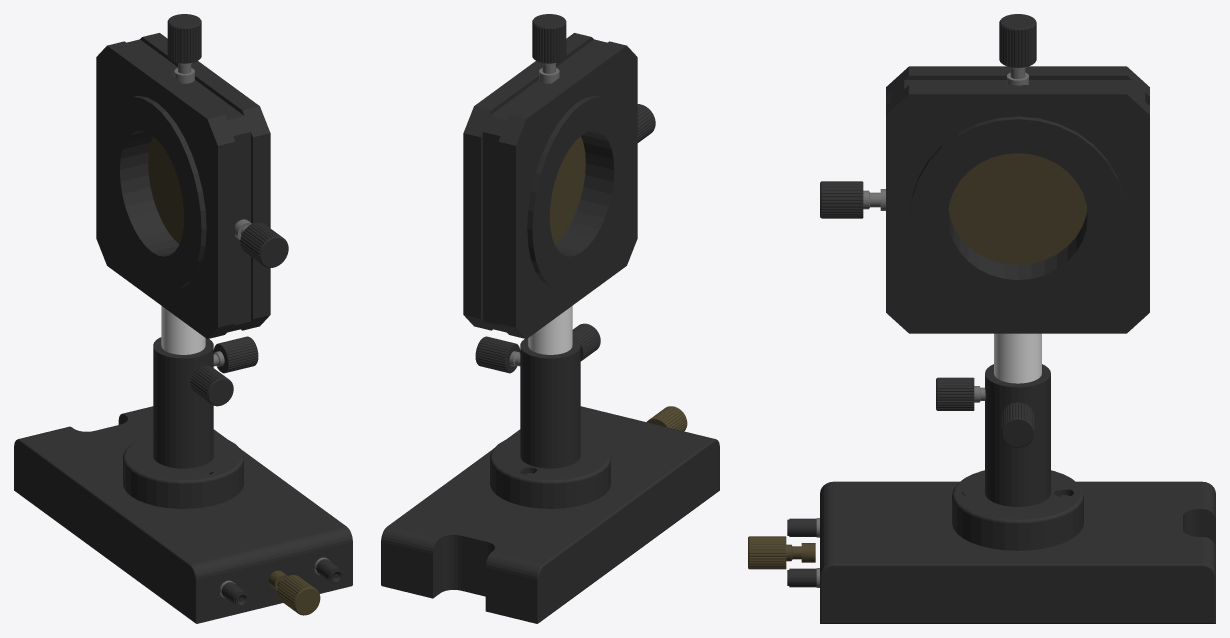
Rendered from 光电二极管.fbx.
The picture shows the model from 3 angles, left to right: view 1: azimuth 30°, elevation 25°; view 2: azimuth 150°, elevation 25°; view 3: azimuth 270°, elevation 25°; orthographic projection. The views are drawn at different scales.
Parts seen in each view (by area): view 1: 滑座, 立方体, 支架, Cylinder, Cylinder.002, 大旋钮座.003, 大旋钮座.004, Cylinder.001, 大旋钮.001, 大旋钮, 大旋钮.002, 小旋扭; view 2: 滑座, 立方体, 支架, Cylinder, Cylinder.002, 大旋钮座.003, Cylinder.001, 大旋钮.002, 大旋钮.001, 大旋钮, 大旋钮座.004; view 3: 滑座, 立方体, Cylinder, 支架, Cylinder.002, Cylinder.001, 大旋钮座.003, 大旋钮座.004, 大旋钮.002, 大旋钮.001, 大旋钮, 小旋扭.
Part boxes in pixels (x1,y1,x2,y2): 滑座: (14, 406, 352, 623); 立方体: (96, 33, 270, 338); 支架: (123, 337, 243, 508); Cylinder: (102, 95, 206, 290); Cylinder.002: (148, 136, 184, 243); 大旋钮座.003: (167, 14, 201, 83); 大旋钮座.004: (235, 219, 288, 267); Cylinder.001: (161, 306, 205, 354); 大旋钮.001: (190, 365, 233, 406); 大旋钮: (277, 575, 320, 615); 大旋钮.002: (213, 336, 258, 373); 小旋扭: (221, 559, 343, 607); 滑座: (381, 406, 719, 623); 立方体: (463, 33, 637, 338); 支架: (490, 337, 610, 508); Cylinder: (527, 95, 631, 290); Cylinder.002: (549, 136, 585, 243); 大旋钮座.003: (532, 14, 566, 83); Cylinder.001: (528, 306, 572, 354); 大旋钮.002: (475, 336, 520, 373); 大旋钮.001: (572, 323, 600, 361); 大旋钮: (647, 406, 687, 431); 大旋钮座.004: (637, 104, 655, 142); 滑座: (820, 481, 1215, 623); 立方体: (886, 66, 1149, 333); Cylinder: (910, 116, 1125, 313); 支架: (952, 364, 1083, 550); Cylinder.002: (948, 153, 1087, 264); Cylinder.001: (994, 333, 1041, 383); 大旋钮座.003: (999, 14, 1036, 85); 大旋钮座.004: (820, 181, 885, 218); 大旋钮.002: (1001, 402, 1034, 447); 大旋钮.001: (936, 377, 974, 410); 大旋钮: (748, 536, 786, 569); 小旋扭: (787, 518, 816, 587).
Bounding box in the file's own units: 60 × 188 × 142.
